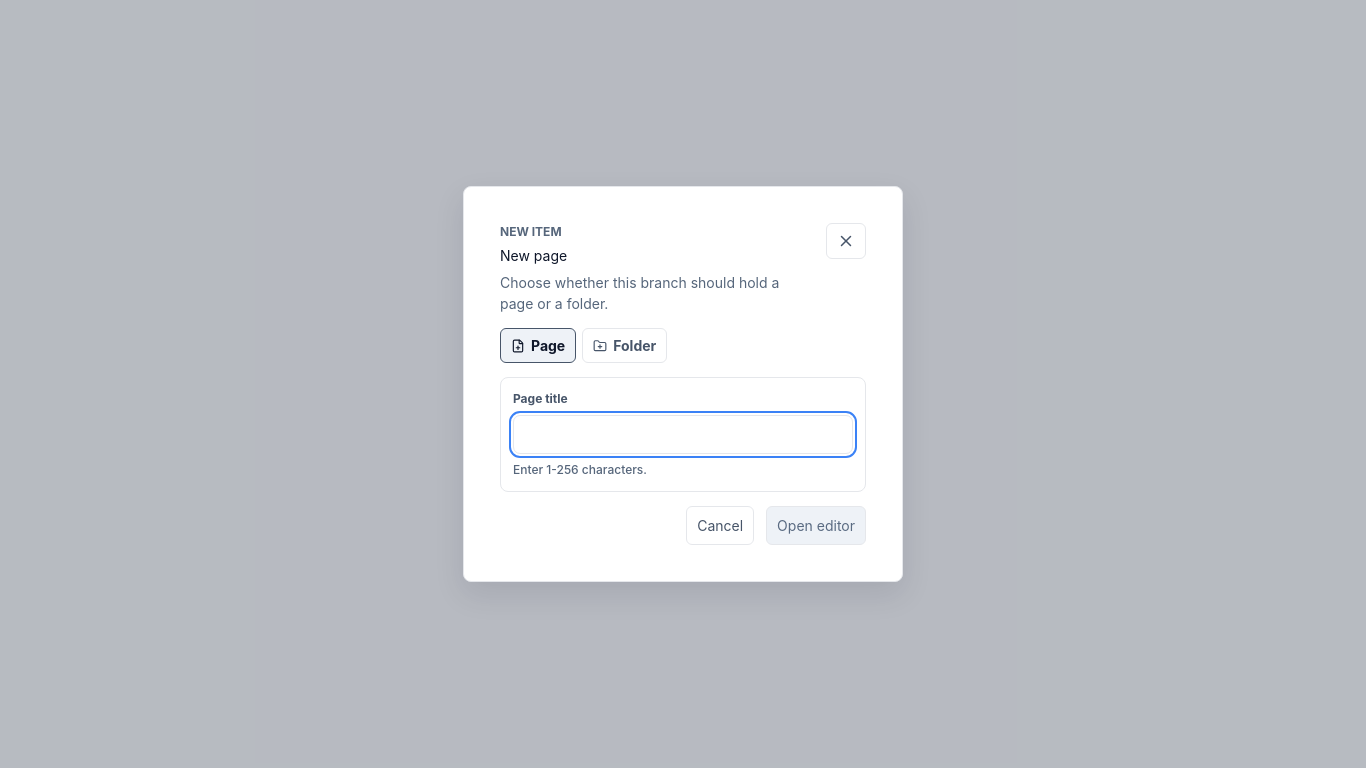
Scenario: NewItemDialog › uses the localized create fallback instead of rendering an arbitrary error
Type "Launch Plan" into the field labelled "Page title" at (683, 434), box [513,415,853,454]
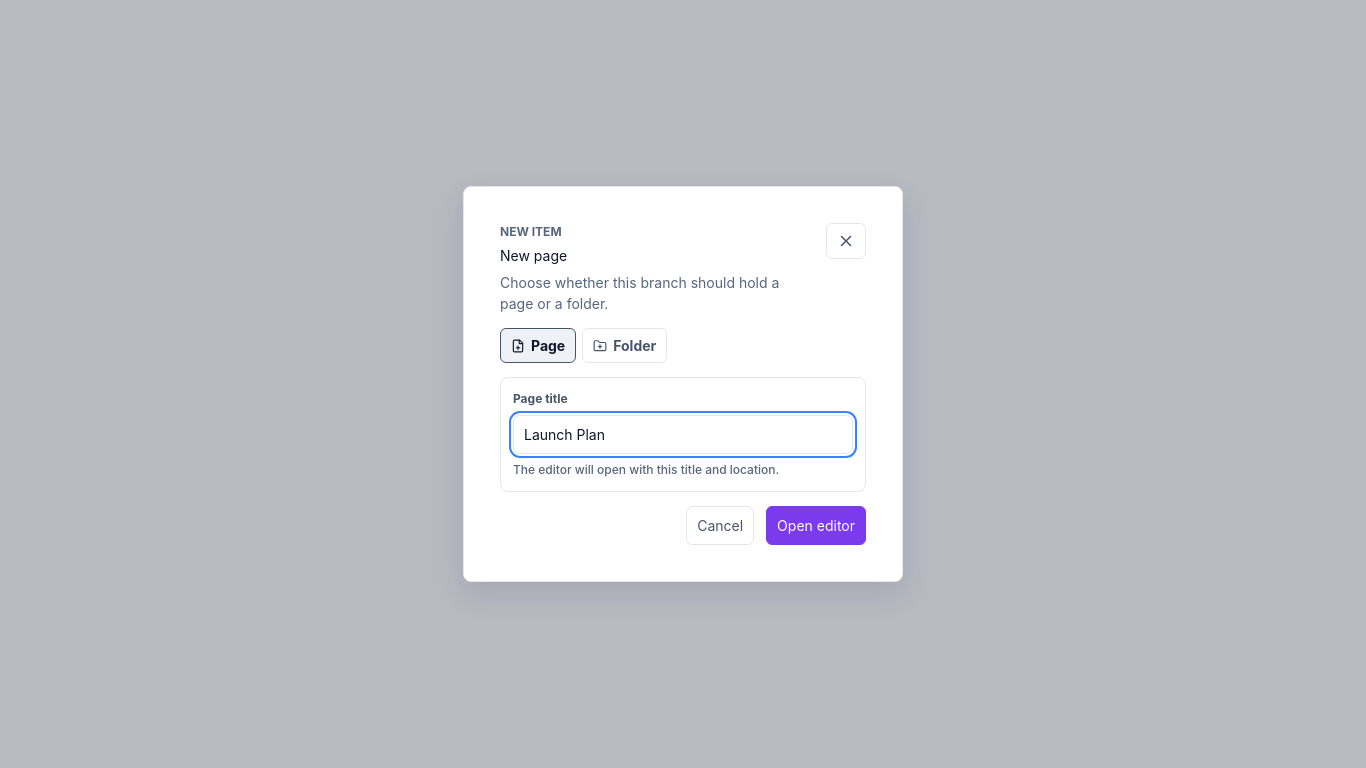
Click the button "Open editor" at (816, 526), box [766,506,866,545]
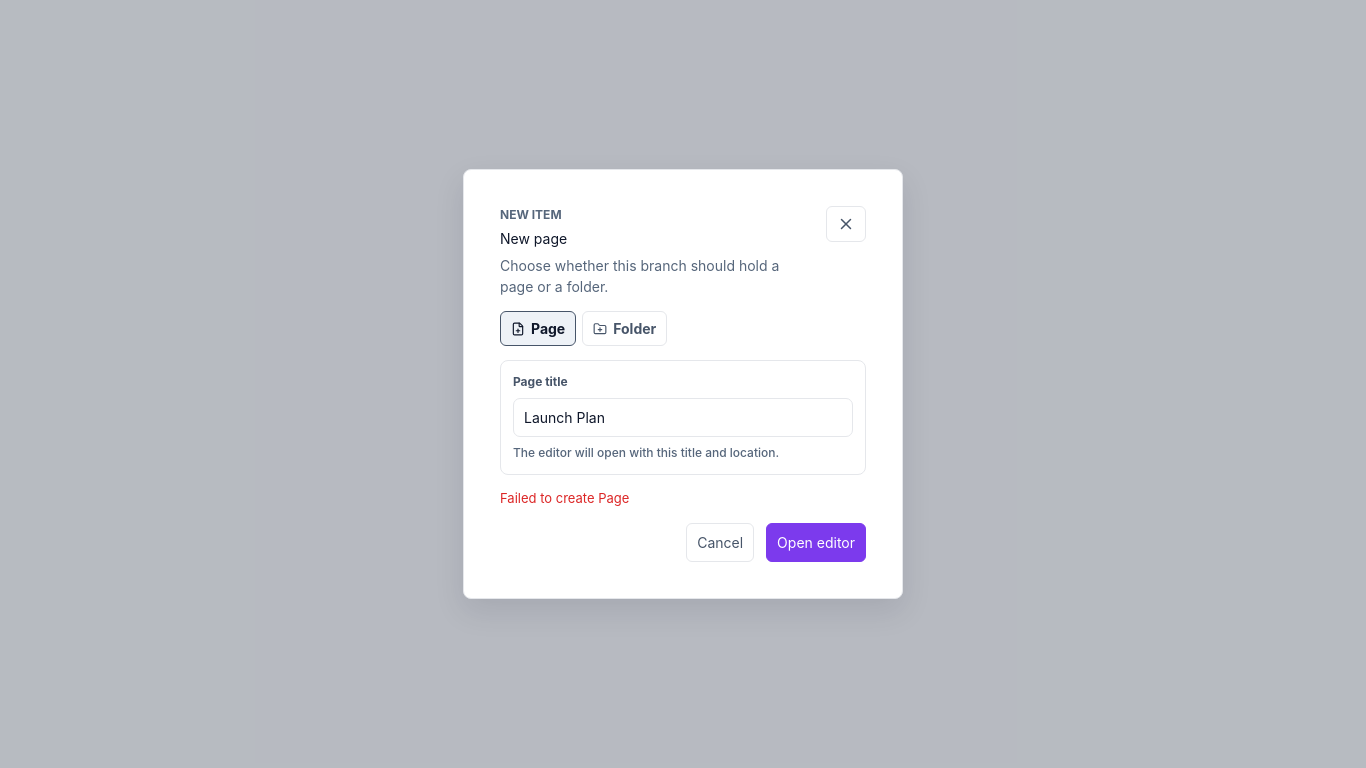
Expected: the text "Failed to create Page" is shown, [500,490,629,506]
